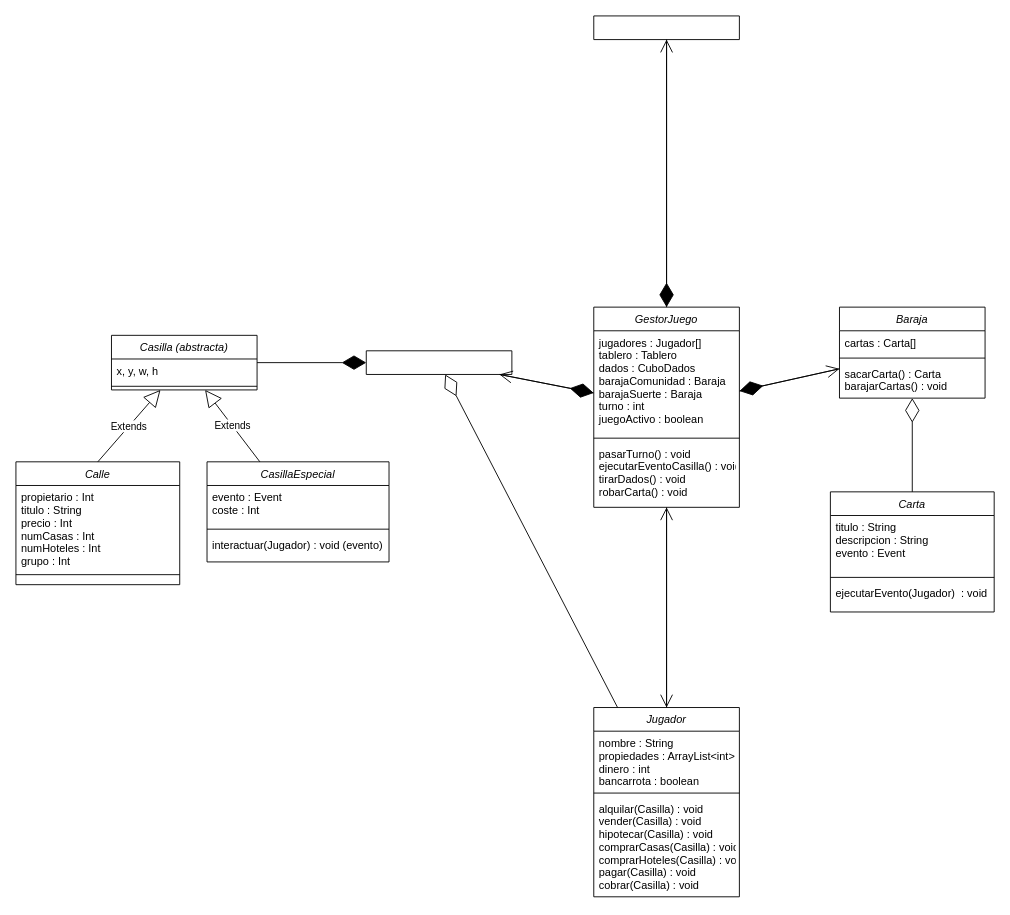
This 1010x915 diagram has some shape labels left out. The shapes that lost their labels are listed below. From the top down, each one's centre as x and y in pixels, then its label:
At point (666, 27): "CuboDados".
At point (438, 362): "Tablero".
